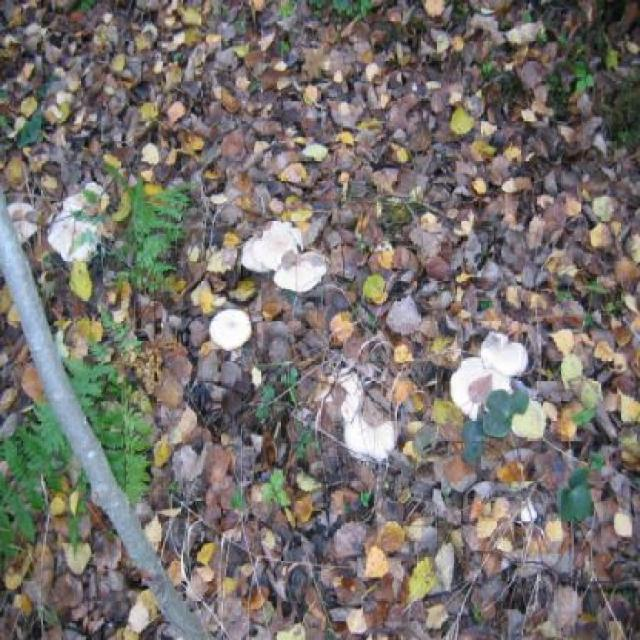garbage: (2, 0, 639, 437), (9, 440, 639, 638)
